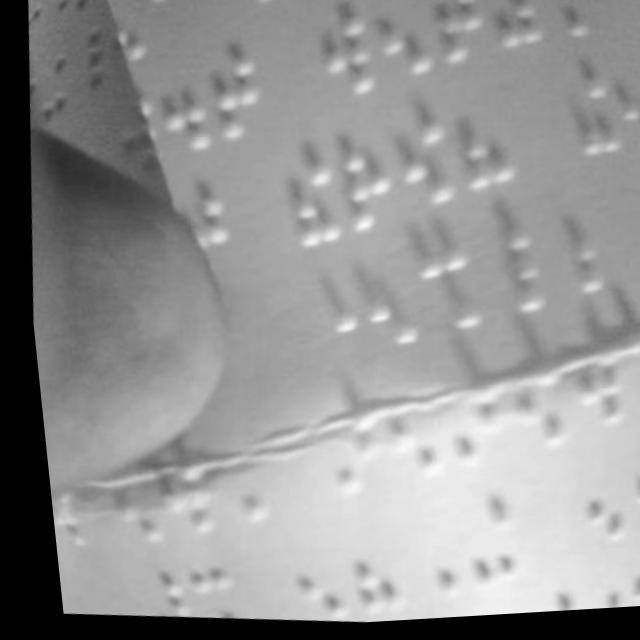braiile: (517, 197, 605, 314), (322, 127, 396, 246), (393, 248, 480, 343), (454, 230, 540, 325), (196, 41, 268, 154), (444, 96, 518, 205), (345, 253, 419, 360), (327, 513, 398, 624), (384, 112, 456, 219), (269, 148, 339, 257), (308, 1, 377, 107), (146, 56, 213, 165), (360, 0, 437, 94), (388, 500, 454, 606), (448, 491, 512, 594), (557, 75, 623, 174), (285, 270, 352, 366), (424, 0, 489, 80)
